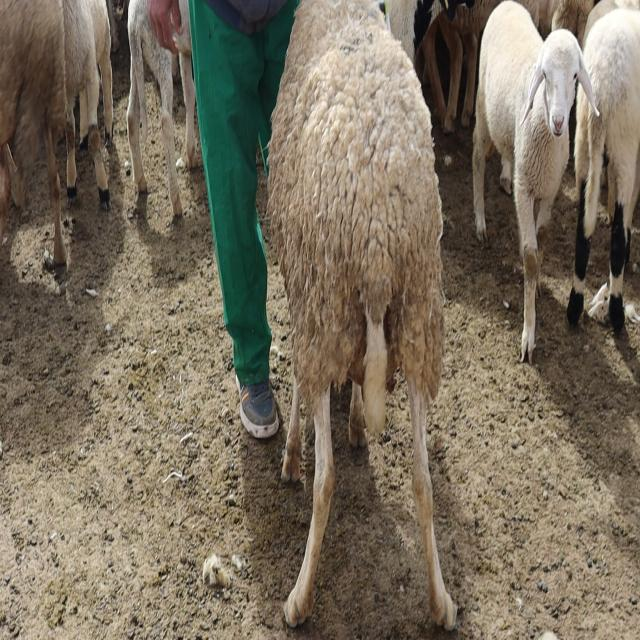Score_2: (267, 0, 456, 629)
